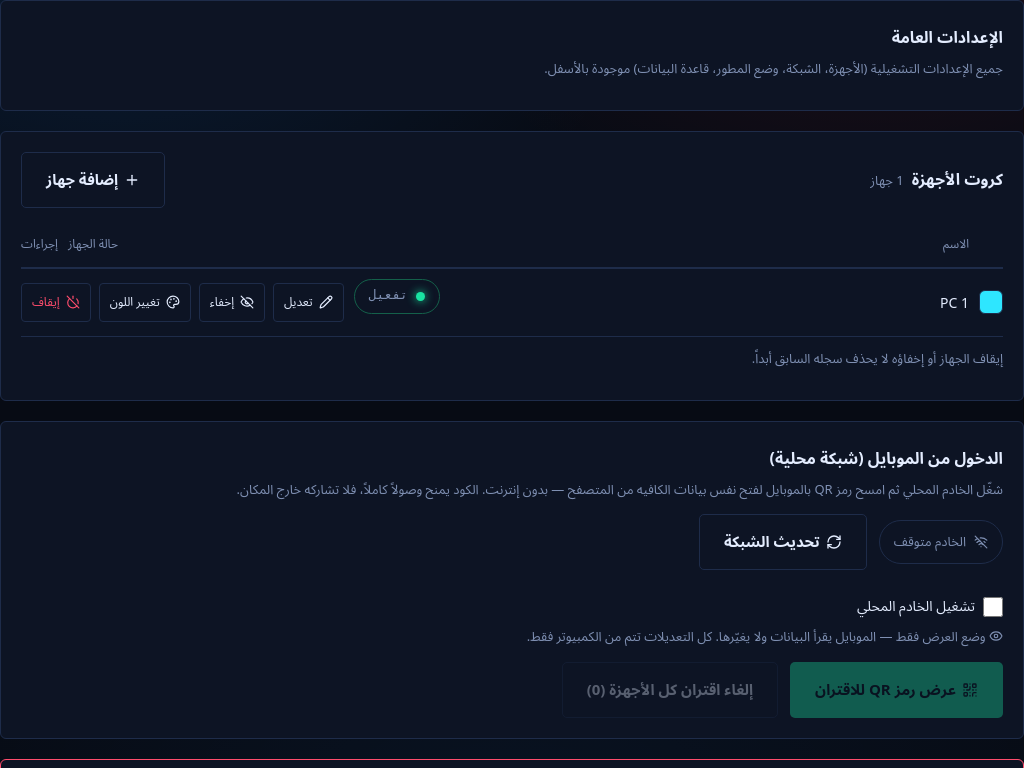
Test: settings device edit dialog dismissal › clicking the backdrop closes the dialog
The image size is (1024, 768).
Click the button "تعديل". click: [308, 302]
box: [273,283,344,322]
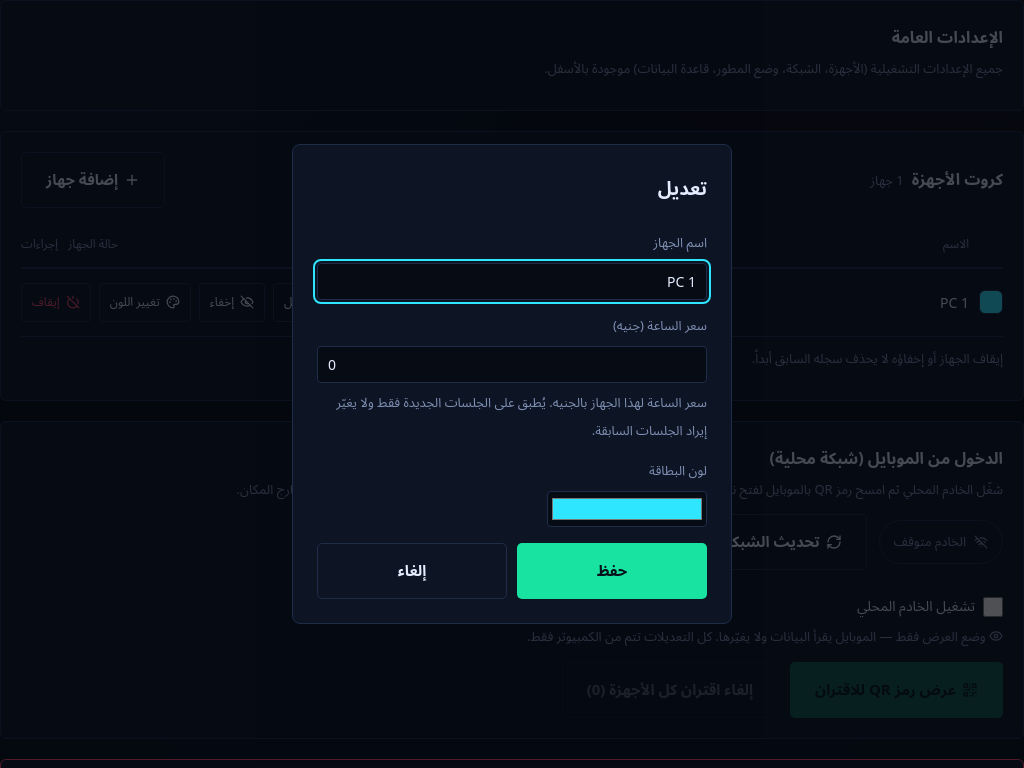
Now the element with class "modal-backdrop" is shown
Click the element with class "modal-backdrop". click: [61, 384]
box: [0,0,1023,767]
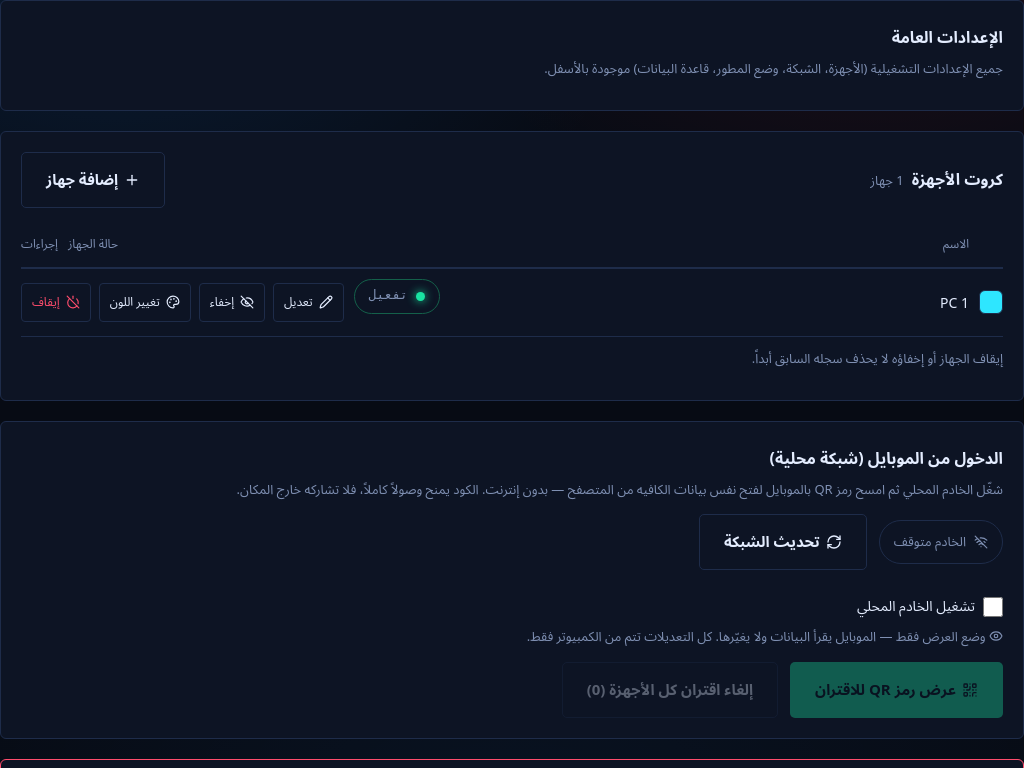
Now the dialog is gone
